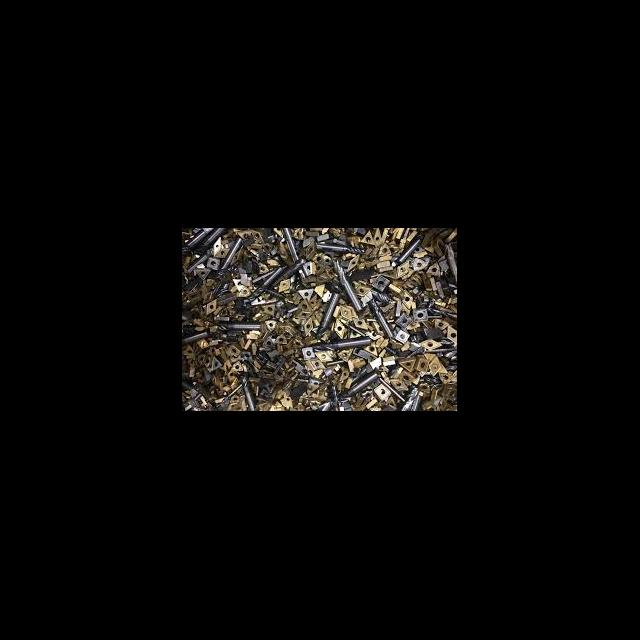metal: (238, 264, 290, 308), (328, 258, 368, 314), (304, 330, 376, 356), (210, 234, 248, 278), (310, 288, 346, 334), (364, 294, 396, 339), (338, 370, 388, 398), (272, 228, 306, 268), (234, 372, 266, 411), (388, 232, 427, 264), (310, 238, 366, 258), (214, 317, 264, 338), (368, 272, 391, 294), (416, 334, 444, 352), (182, 328, 208, 346), (408, 304, 429, 326), (397, 354, 418, 374), (203, 354, 226, 372), (202, 296, 222, 316), (294, 286, 316, 304)
